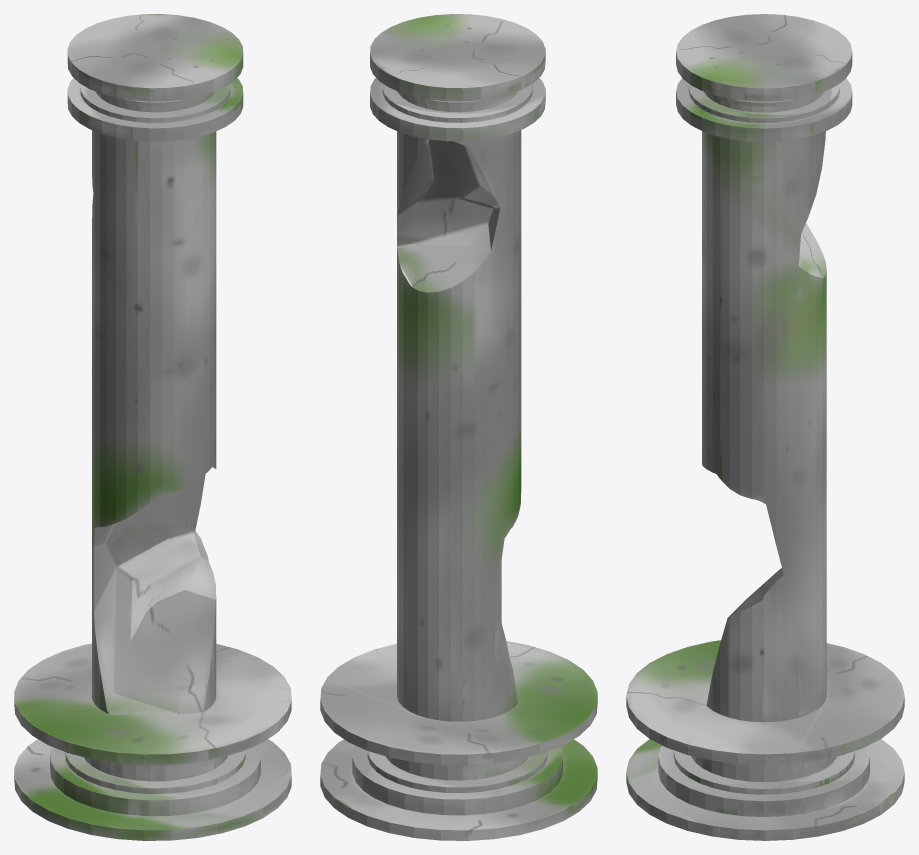
File: colone1.fbx
3 renders of one model, left to right at view 1: azimuth 30°, elevation 25°; view 2: azimuth 150°, elevation 25°; view 3: azimuth 270°, elevation 25°, orthographic.
Visible parts, largest first — view 1: Cylindre.002; view 2: Cylindre.002; view 3: Cylindre.002.
Boxes of the visible parts, x1,y1,x2,y2 form: Cylindre.002: (14,14,291,840); Cylindre.002: (320,14,597,840); Cylindre.002: (626,14,904,840).
Size of the model in its own units: 641 by 1859 by 641.
